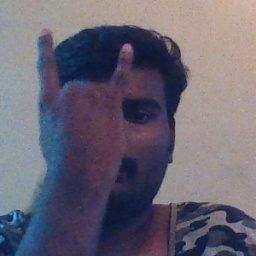V: (30, 26, 141, 185)
